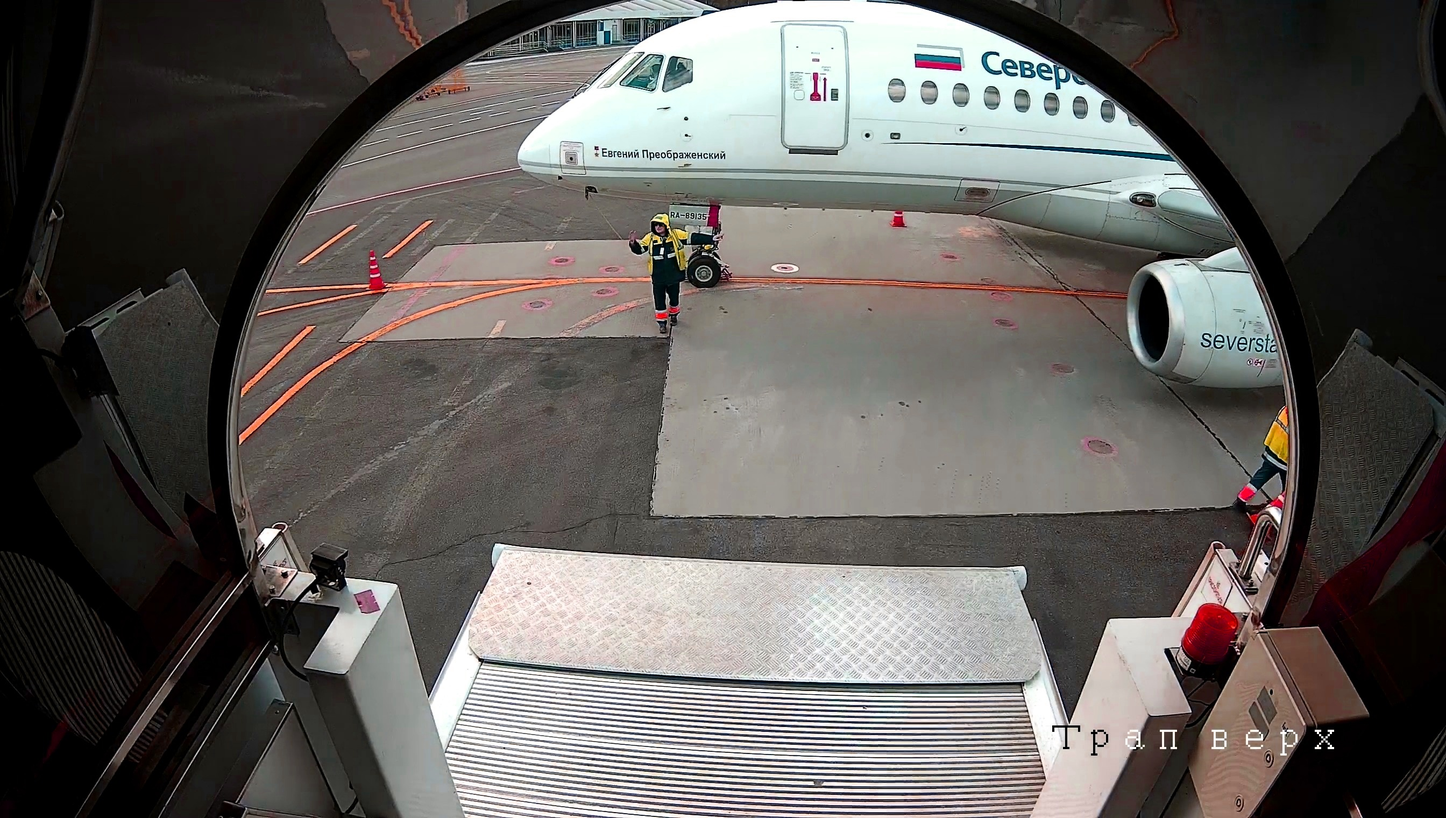boots: (721, 263, 738, 285)
wheels: (686, 253, 725, 289)
